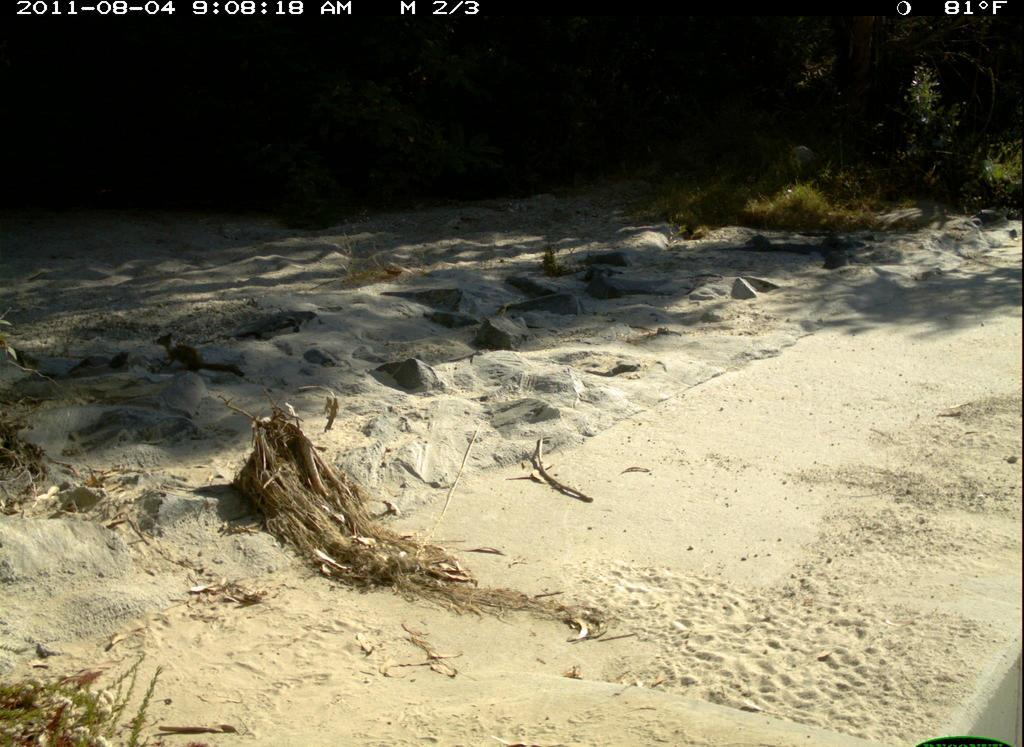squirrel: (155, 329, 246, 385)
